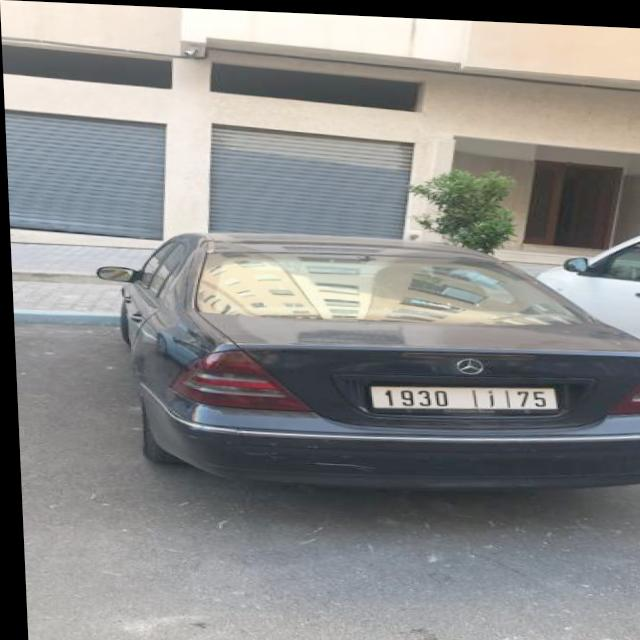License-Plate: (368, 384, 551, 405)
